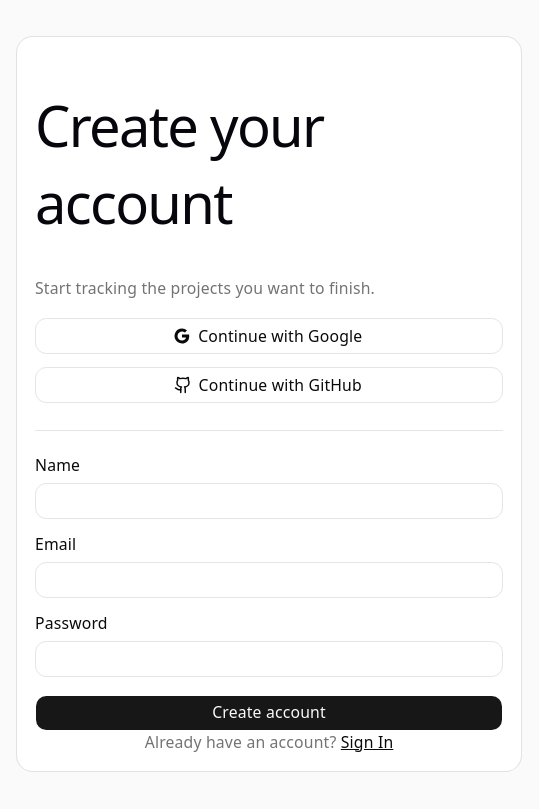
Test: RegisterPage › displays API errors below the form
Type "Test User" into the field labelled "Name" at coordinates (269, 501), box [35,483,503,519]
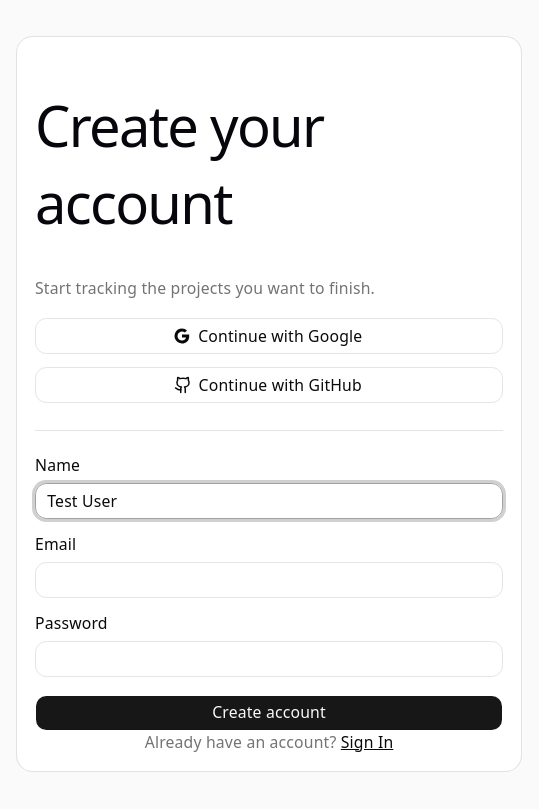
Type "test@example.com" into the field labelled "Email" at coordinates (269, 580), box [35,562,503,598]
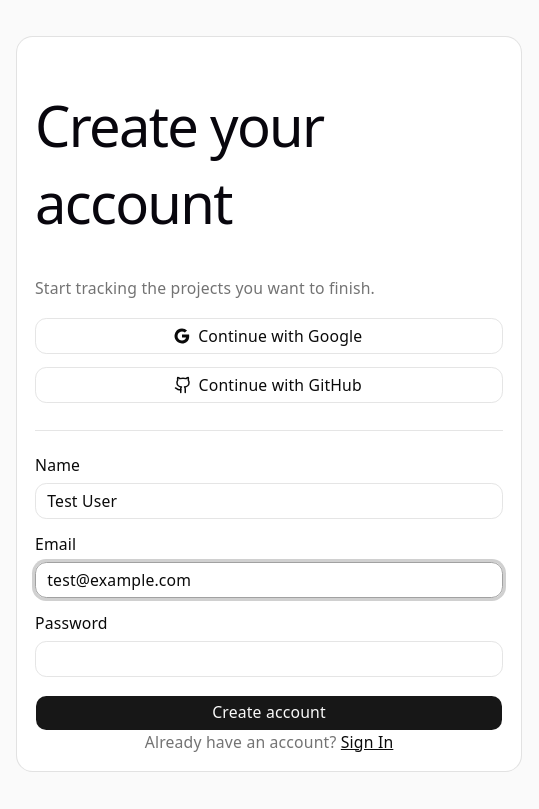
Type "password123" into the password field labelled "Password" at coordinates (269, 659), box [35,641,503,677]
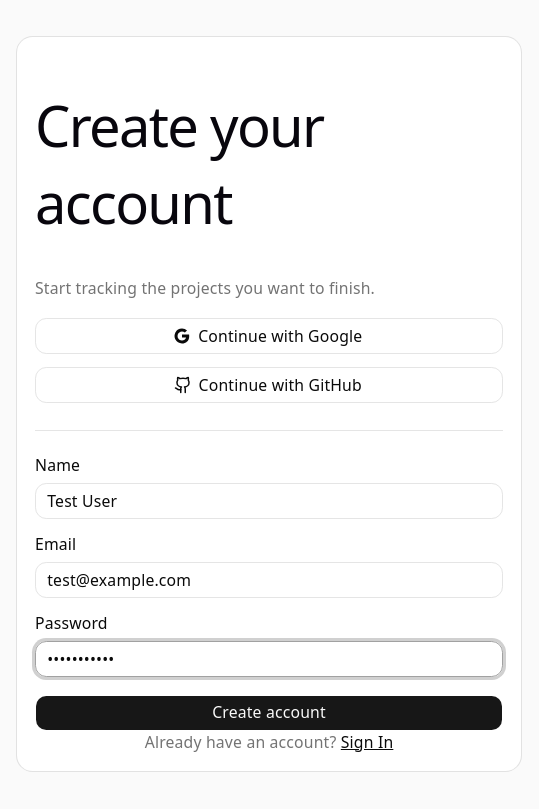
Click the button "Create account" at coordinates (269, 713), box [35,695,503,731]
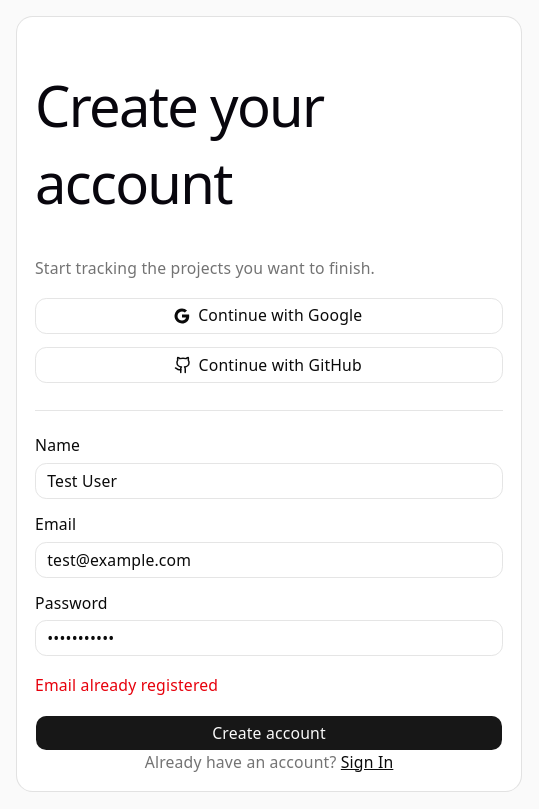
Expected: the text "Email already registered" is shown, [35,674,218,696]
